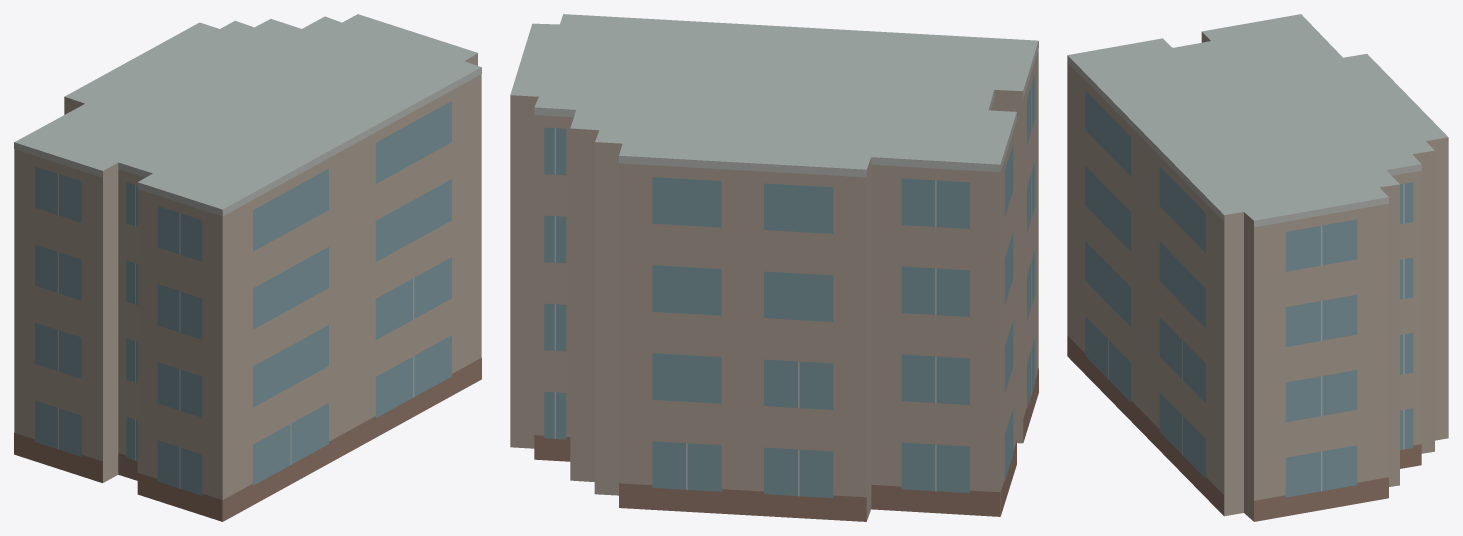
The model's file is survey-upis-32717383.glb.
3 renders of one model, left to right at view 1: azimuth 30°, elevation 25°; view 2: azimuth 150°, elevation 25°; view 3: azimuth 270°, elevation 25°, orthographic. The views are drawn at different scales.
Parts seen in each view (by area): view 1: survey-upis-32717383.tmp; view 2: survey-upis-32717383.tmp; view 3: survey-upis-32717383.tmp.
Part boxes in pixels (box(x1,y1,x2,y2)): survey-upis-32717383.tmp: box(14, 14, 481, 521); survey-upis-32717383.tmp: box(510, 14, 1038, 521); survey-upis-32717383.tmp: box(1067, 14, 1448, 521).
Bounding box in the file's own units: 16.51 × 11.2 × 12.86.
